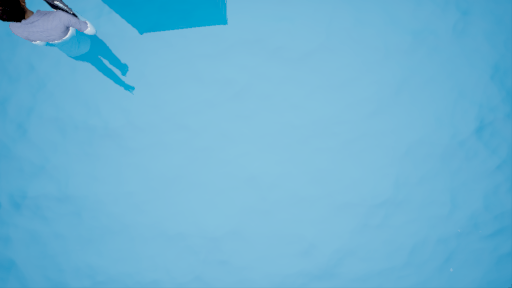person: (1, 3, 129, 99)
